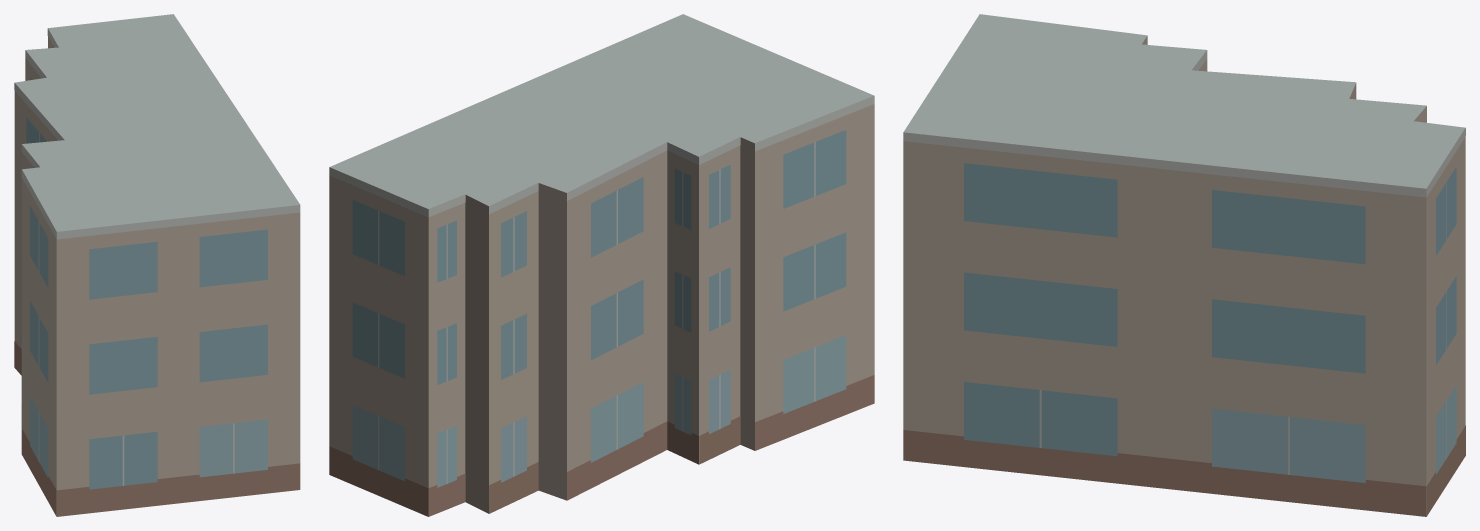
The model's file is survey-upis-32668919.glb.
The picture shows the model from 3 angles, left to right: view 1: azimuth 30°, elevation 25°; view 2: azimuth 150°, elevation 25°; view 3: azimuth 270°, elevation 25°; orthographic projection. The views are drawn at different scales.
Parts seen in each view (by area): view 1: survey-upis-32668919.tmp; view 2: survey-upis-32668919.tmp; view 3: survey-upis-32668919.tmp.
Boxes of the visible parts, x1=… form: survey-upis-32668919.tmp: x1=14, y1=14, x2=300, y2=516; survey-upis-32668919.tmp: x1=329, y1=14, x2=874, y2=516; survey-upis-32668919.tmp: x1=903, y1=14, x2=1465, y2=516.
Size of the model in its own units: 10.46 by 9.15 by 14.22.
